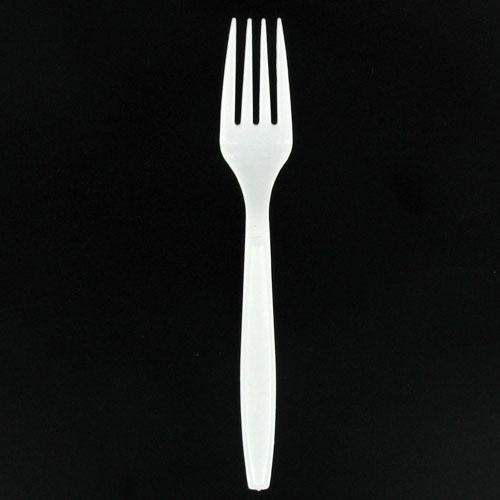Fork: (219, 16, 294, 491)
